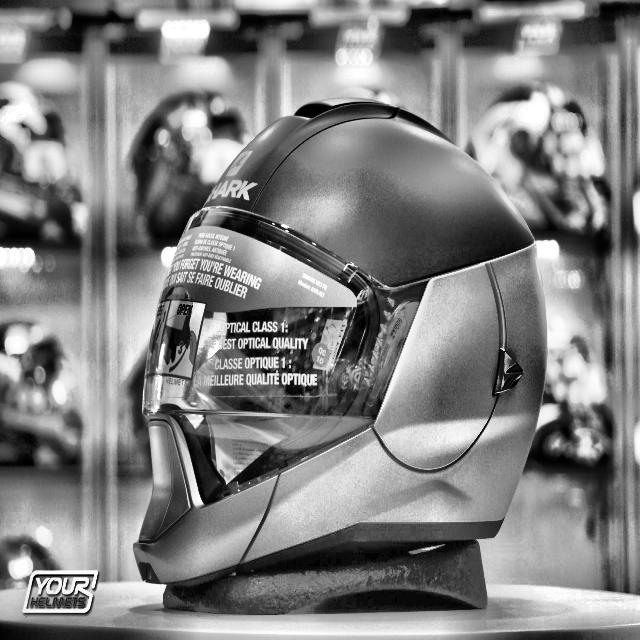Helmet: (115, 89, 559, 602)
